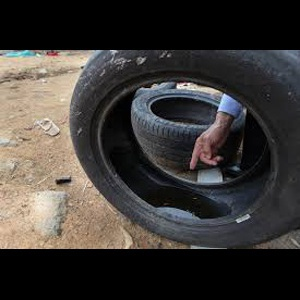tire: (66, 49, 300, 248), (129, 89, 247, 170)
